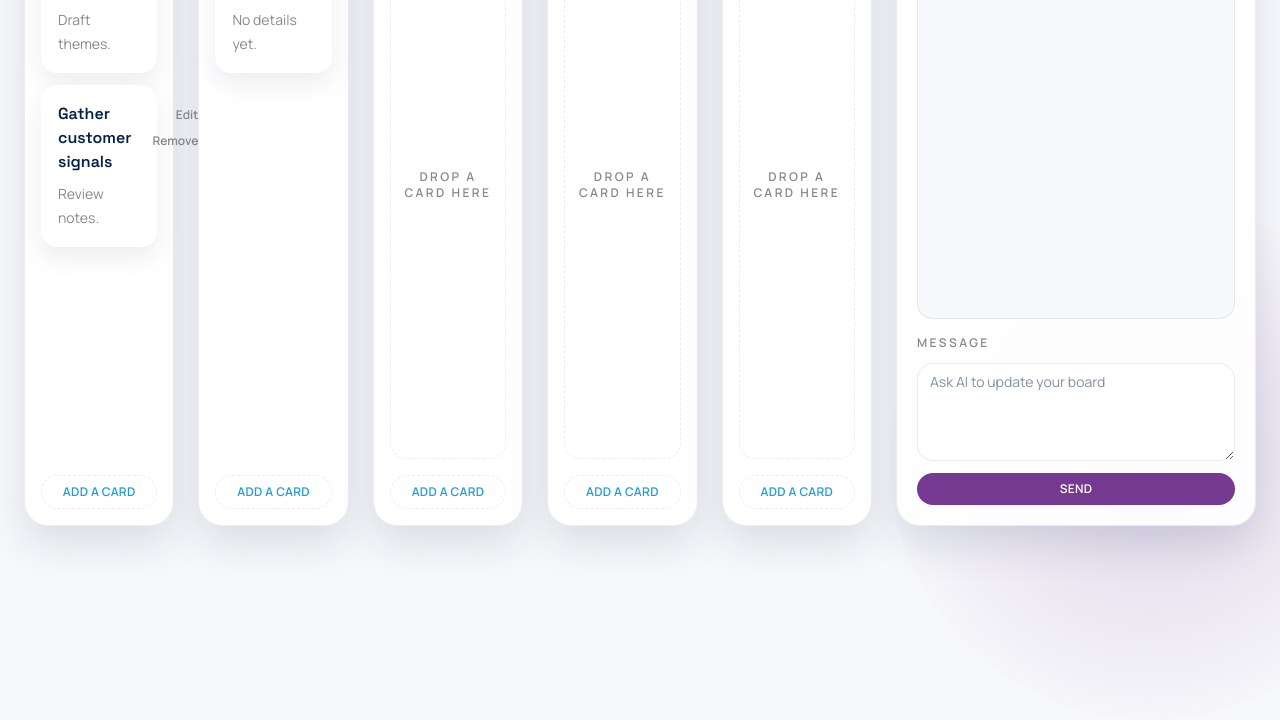
Test: cards › cancels adding a card
(page scrolled)
Click the 1st button "Add a card": (99, 492) [41,475,157,509]
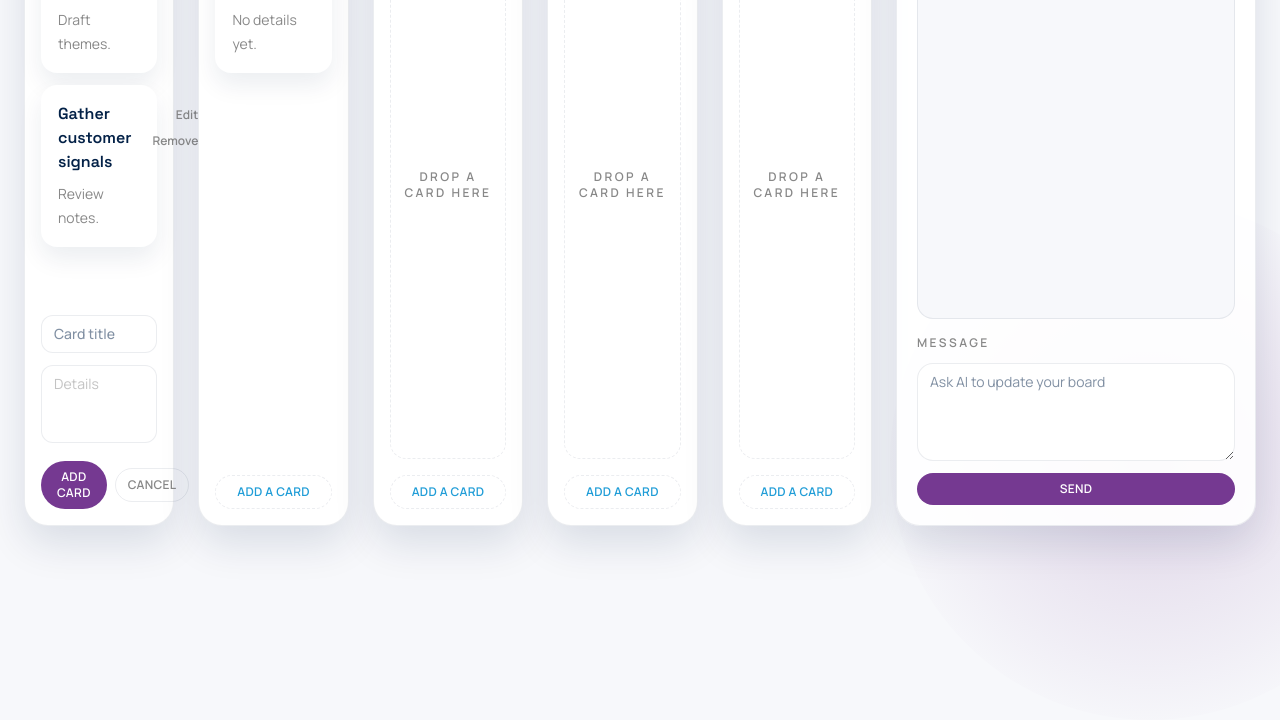
Click the button "Cancel": (152, 485) [115,468,190,502]
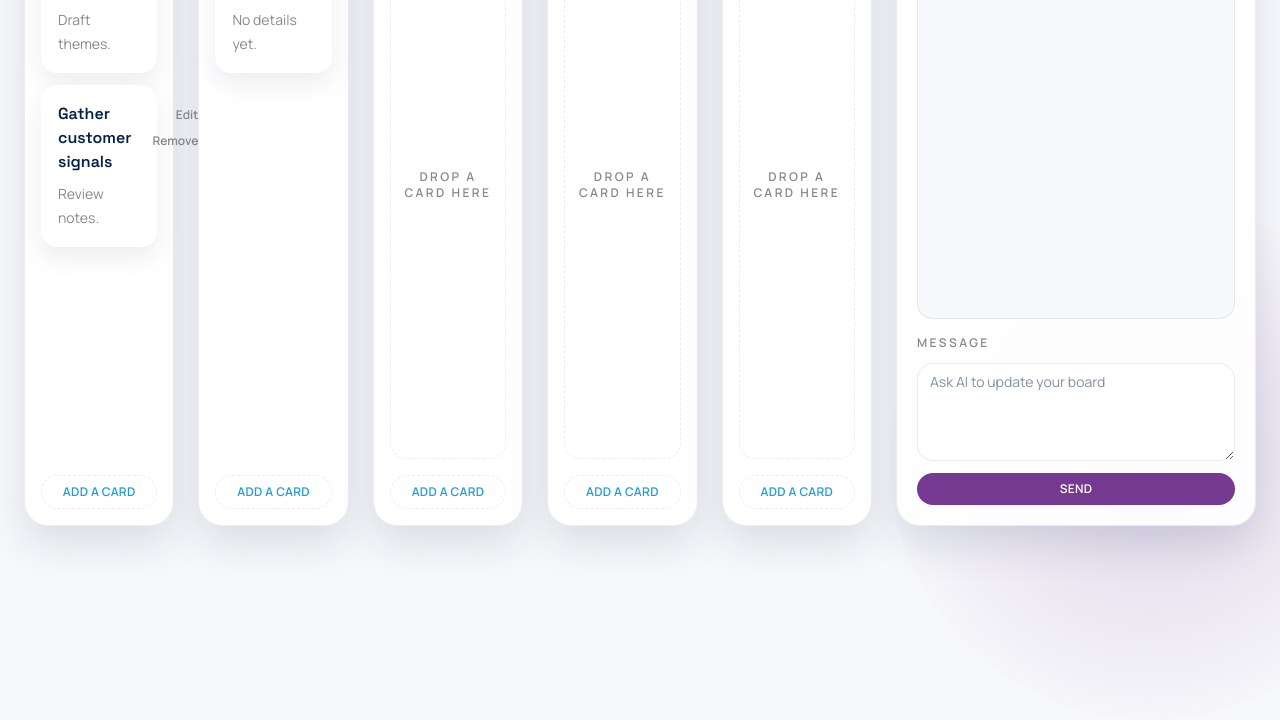
Check: the 1st button "Add a card" is shown, box [41,475,157,509]
